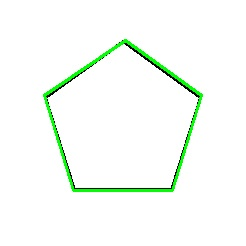line_segment: (43, 40, 203, 192)
